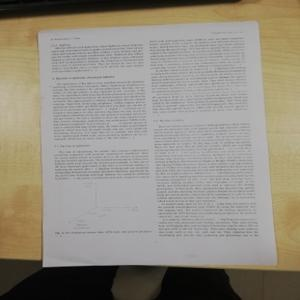diagram: (63, 184, 144, 229)
text: (151, 120, 262, 238), (151, 39, 252, 112), (51, 80, 149, 141), (53, 149, 151, 180), (50, 41, 143, 72)
